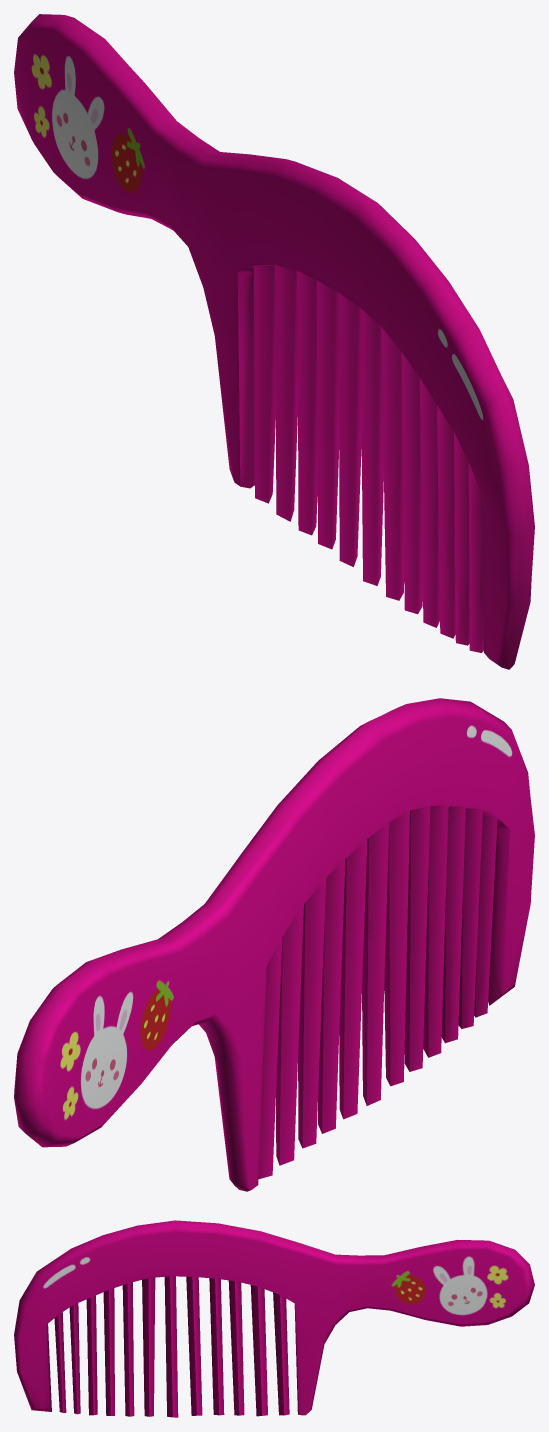
File: Comb.fbx
3 renders of one model, top to bottom at view 1: azimuth 30°, elevation 25°; view 2: azimuth 150°, elevation 25°; view 3: azimuth 270°, elevation 25°, orthographic. The views are drawn at different scales.
Visible parts, largest first — view 1: 080; view 2: 080; view 3: 080.
Boxes of the visible parts, <box> form: 080: <box>14,14,534,669</box>; 080: <box>14,698,534,1191</box>; 080: <box>14,1220,534,1417</box>.
Bounding box in the file's own units: 1.94 × 24.54 × 58.79.
1 material, 1 textured.
